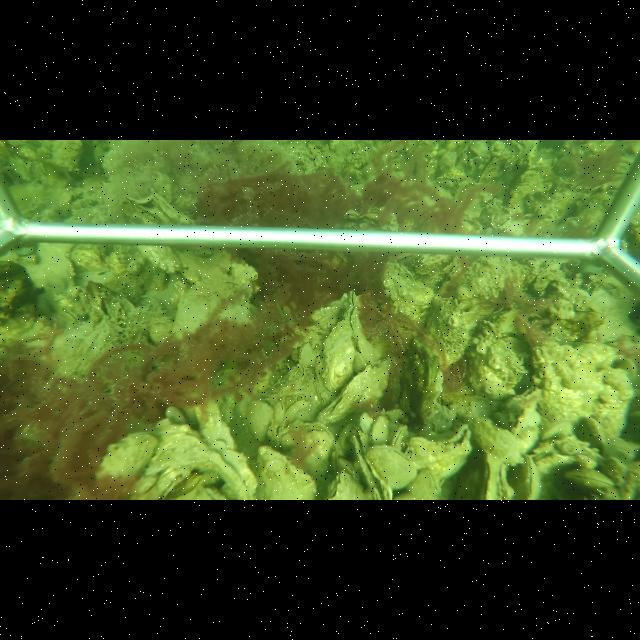Oyster-Closed: (316, 357, 391, 424), (469, 320, 526, 400), (406, 422, 474, 482), (382, 260, 434, 329), (281, 424, 337, 481), (261, 445, 319, 498), (428, 302, 471, 369), (320, 317, 355, 392), (368, 442, 418, 491), (347, 292, 382, 360), (308, 290, 354, 327), (152, 190, 196, 222), (563, 468, 616, 490), (479, 449, 502, 499), (327, 470, 363, 498), (518, 455, 539, 499), (369, 415, 389, 442), (387, 425, 411, 447), (124, 192, 153, 206)
Oyster-Open: (352, 431, 391, 496), (495, 384, 544, 416), (476, 154, 502, 183)
